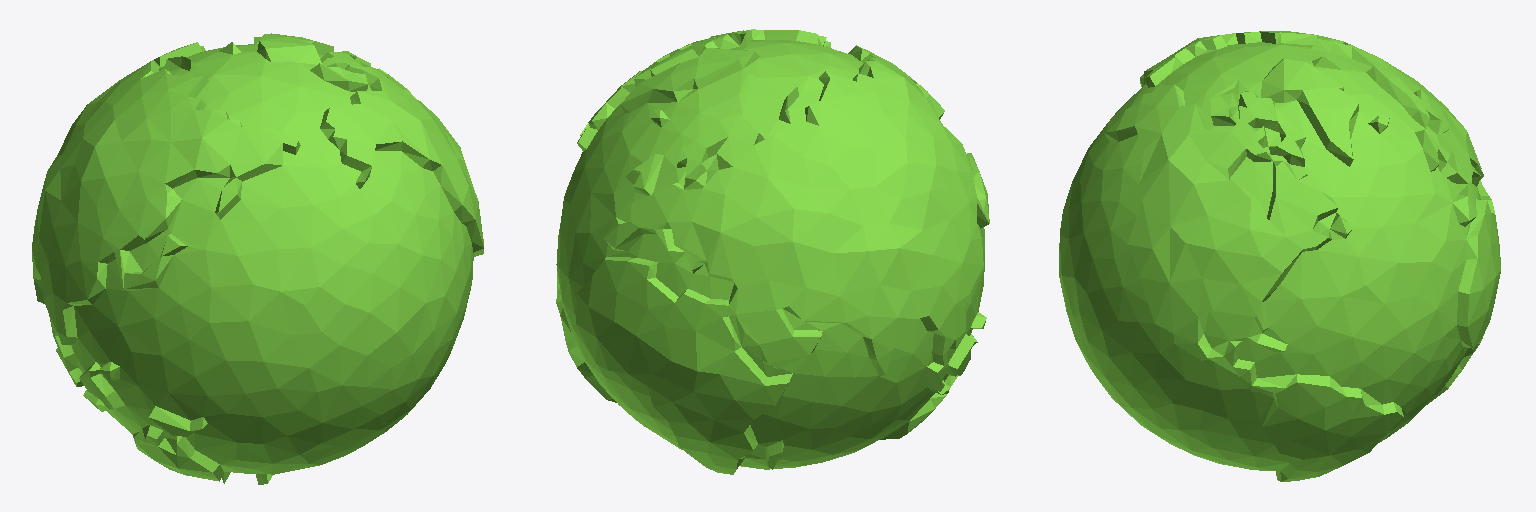
File: earth_scaled.obj
3 views of the same model, side by side, from view 1: azimuth 30°, elevation 25°; view 2: azimuth 150°, elevation 25°; view 3: azimuth 270°, elevation 25° (orthographic).
Parts seen in each view (by area): view 1: Earth; view 2: Earth; view 3: Earth.
Boxes of the visible parts, <box> form: Earth: <box>32,33,483,484</box>; Earth: <box>556,29,989,474</box>; Earth: <box>1059,31,1500,481</box>.
Bounding box in the file's own units: 10.15 × 10.06 × 9.92.